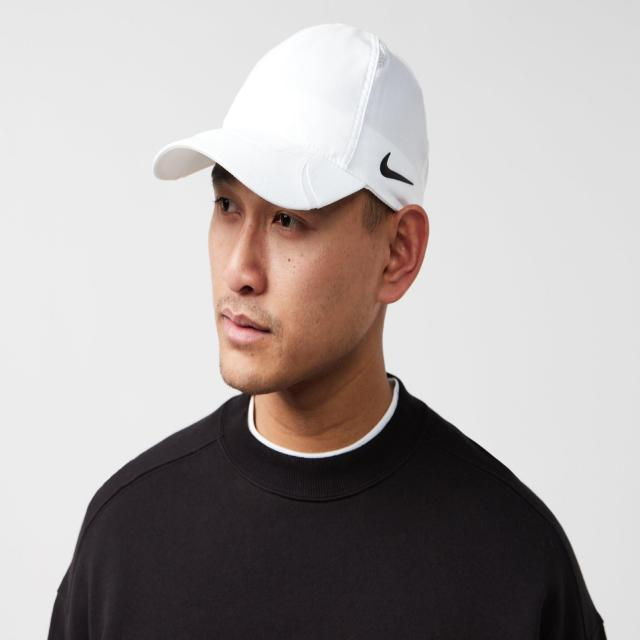Nonhelmet: (150, 21, 432, 407)
